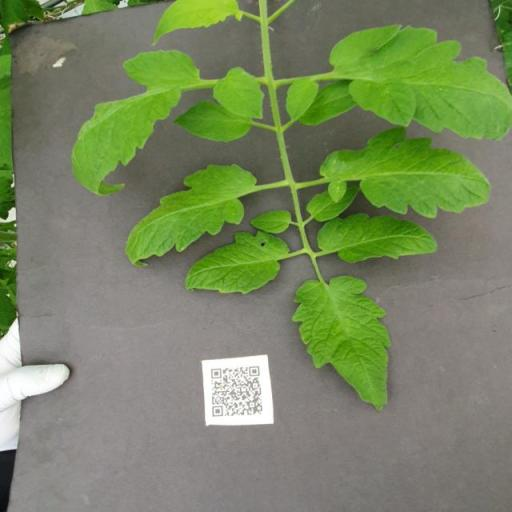Healthy: (327, 23, 512, 141), (72, 49, 202, 197), (319, 126, 493, 220), (290, 276, 392, 414), (124, 163, 258, 268), (183, 230, 288, 296), (316, 212, 440, 266), (212, 68, 266, 122), (306, 184, 360, 222), (283, 76, 319, 122)
